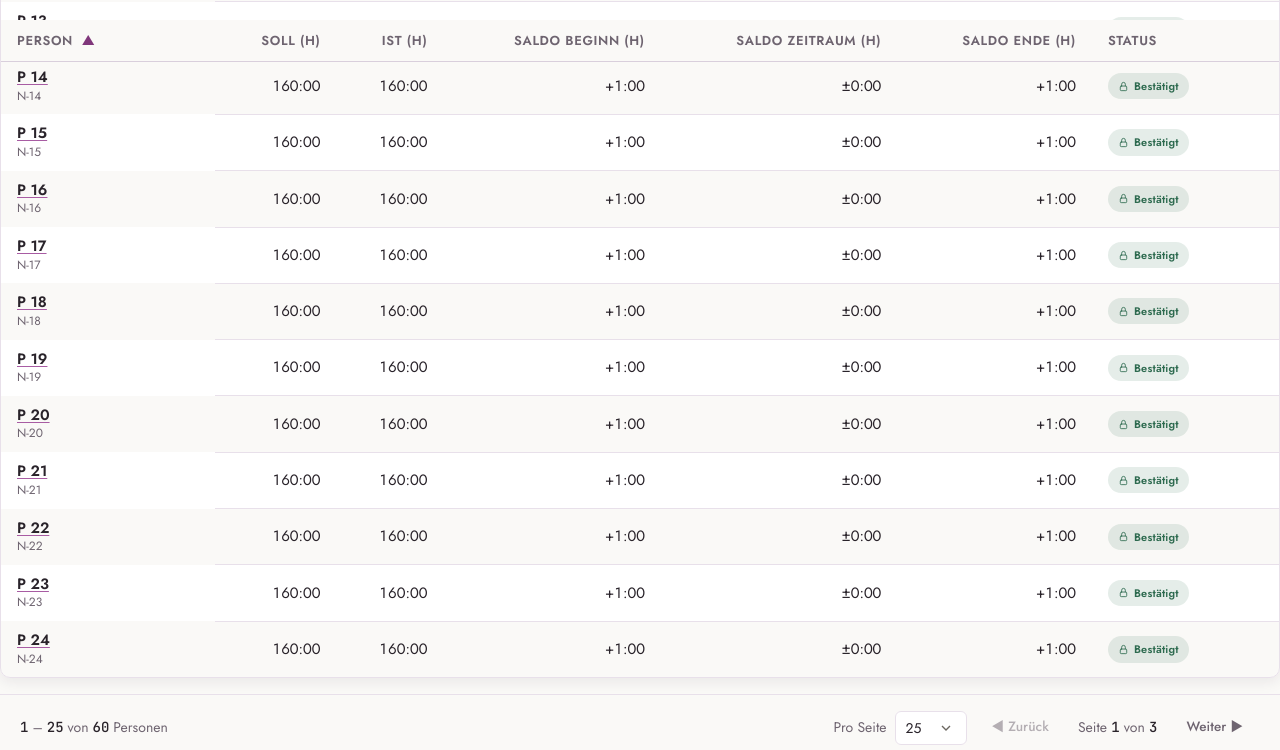
Test case: TimesAccountsTable - search, count, paging › pages in steps of 25 over the searched and sorted rows; a new search returns to page 1
The image size is (1280, 750).
(page scrolled)
Click the button with aria-label "nächste" at (1215, 728), box left=1169, top=709, right=1260, bottom=746
(page scrolled)
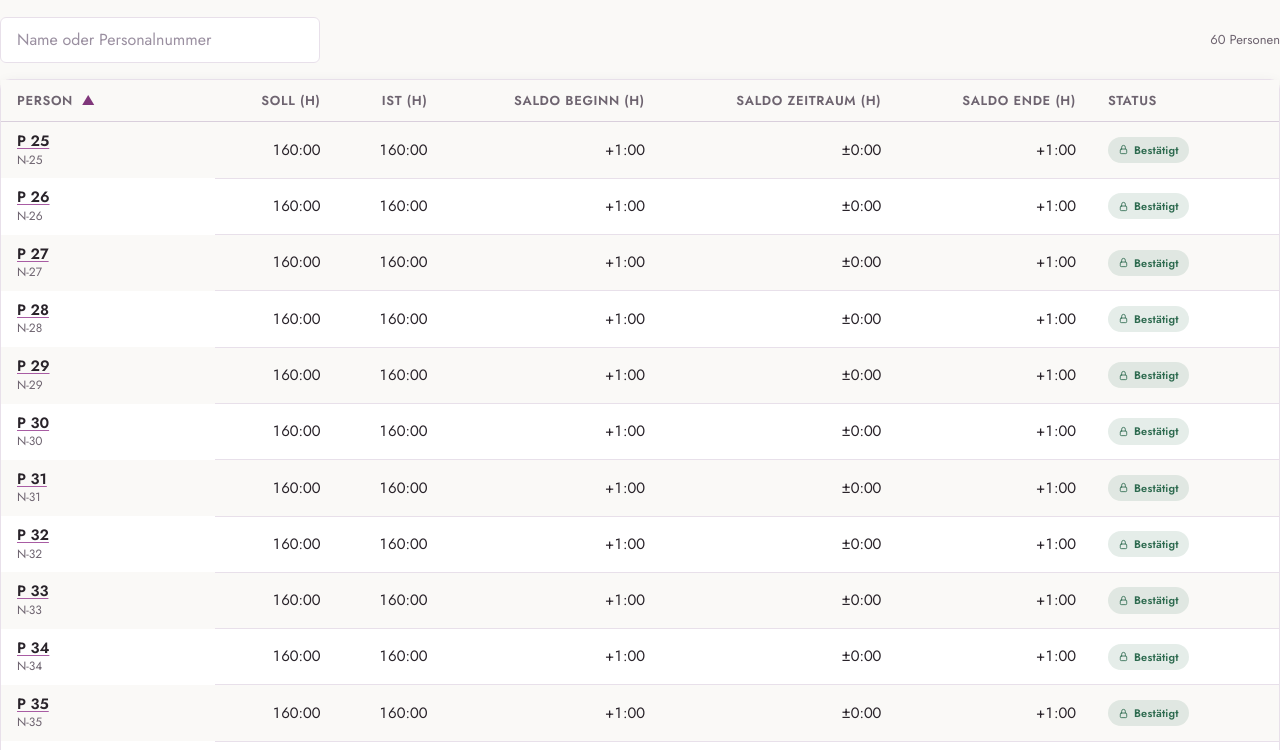
Expected: the link "P 25" is shown, left=17, top=130, right=49, bottom=152
Type "P 0" into the search field named "Person suchen" at (160, 40), box left=0, top=17, right=320, bottom=63
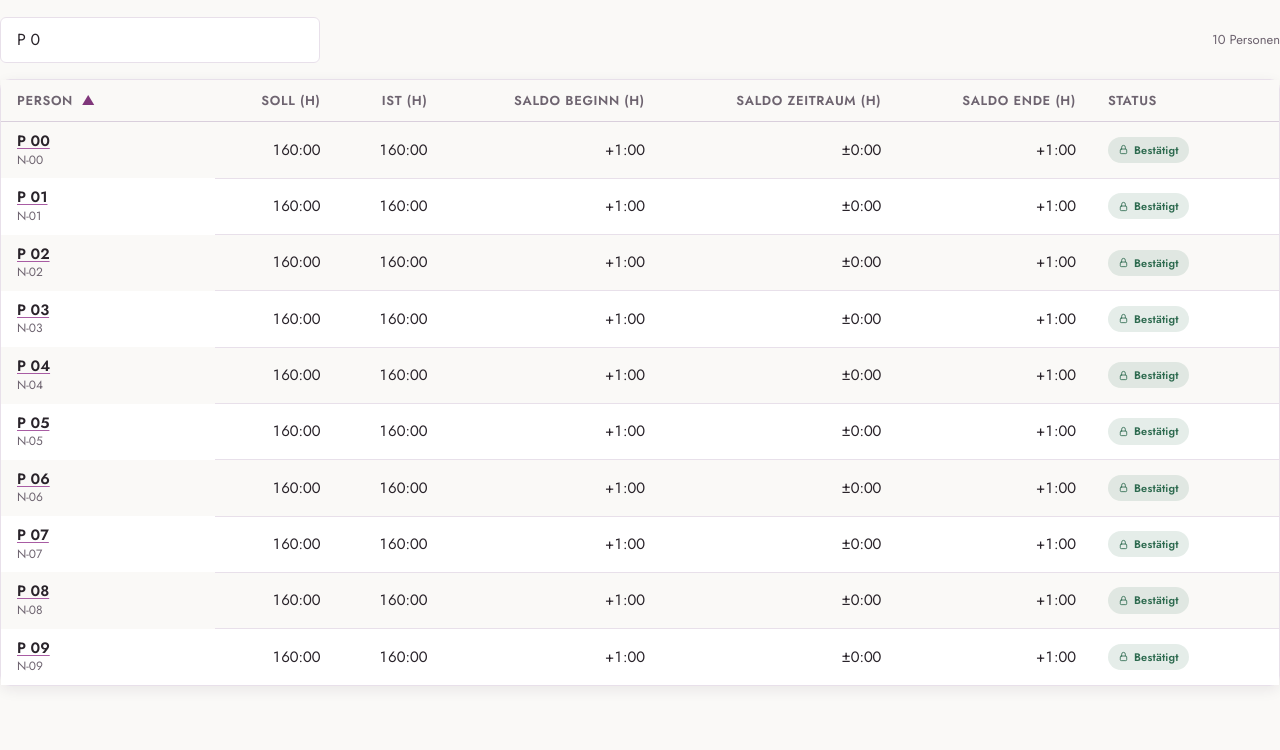
Expected: the link "P 00" is shown, left=17, top=130, right=50, bottom=152
